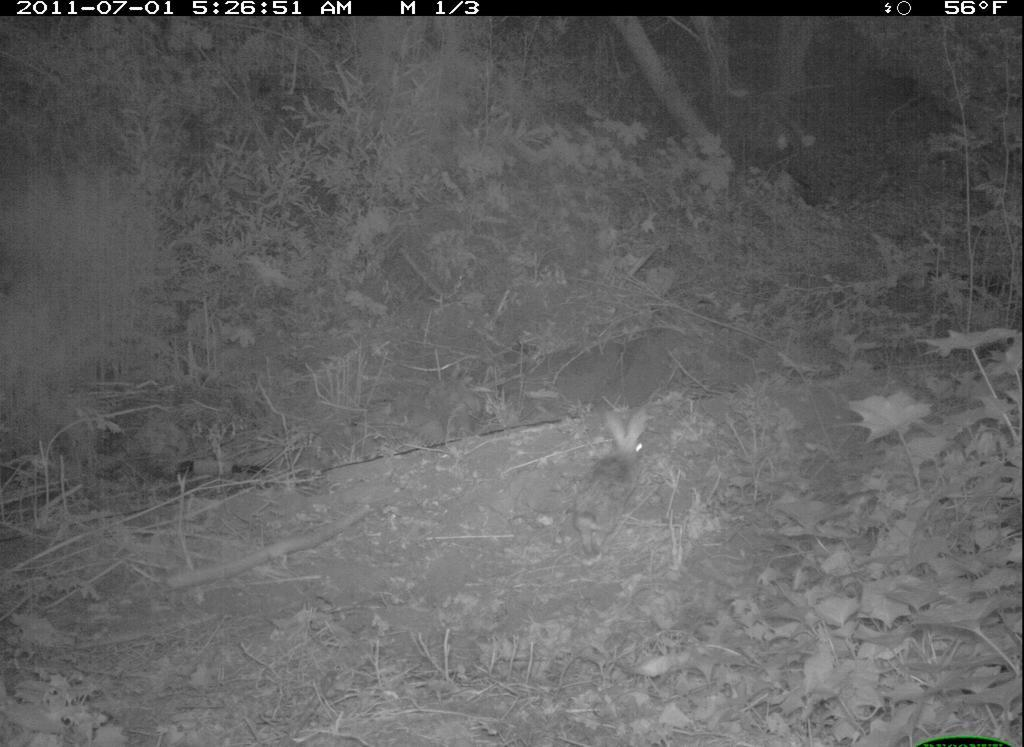rabbit: (562, 408, 666, 560)
